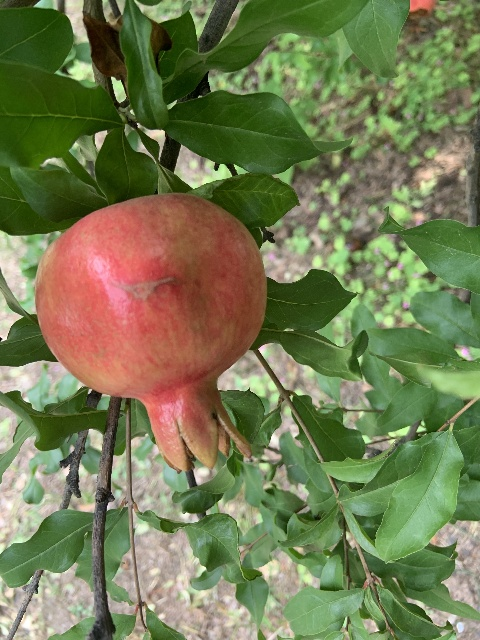ripe: (33, 193, 268, 471)
